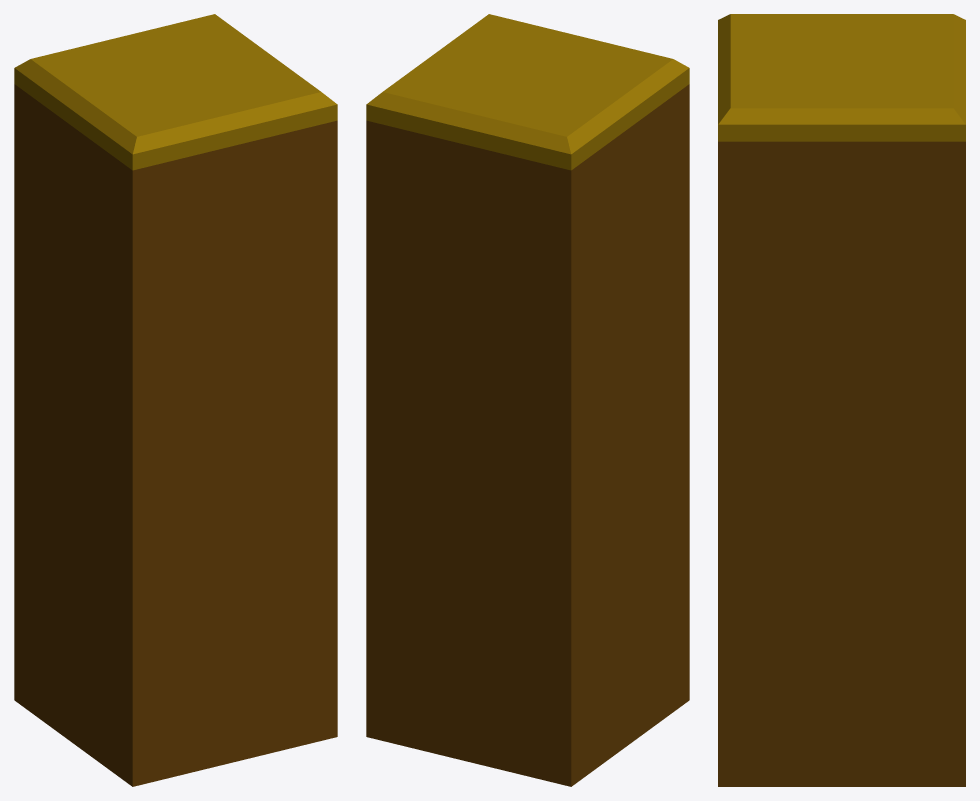
Rendered from Cliff1.fbx.
3 renders of one model, left to right at view 1: azimuth 30°, elevation 25°; view 2: azimuth 150°, elevation 25°; view 3: azimuth 270°, elevation 25°, orthographic. The views are drawn at different scales.
Parts seen in each view (by area): view 1: Cube; view 2: Cube; view 3: Cube.
Part boxes in pixels (x1,y1,x2,y2): Cube: (14,14,337,786); Cube: (366,14,689,786); Cube: (718,14,965,786).
Bounding box in the file's own units: 2 × 6 × 2.
